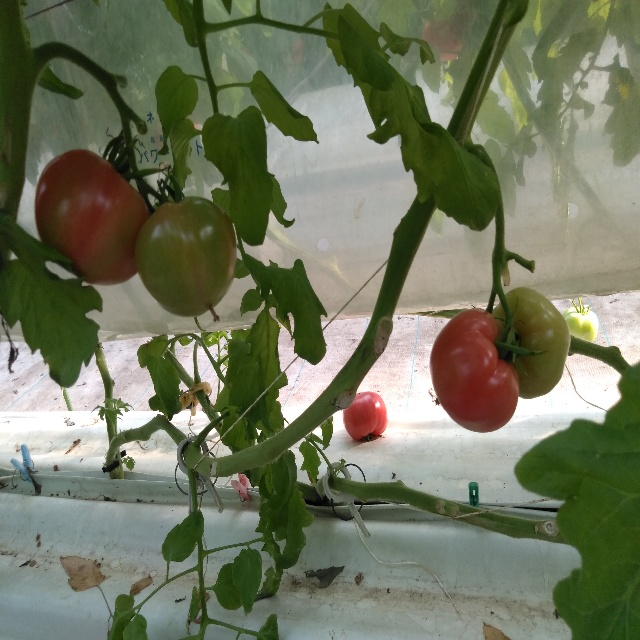b_fully_ripened: (429, 307, 519, 433), (343, 392, 389, 441)
b_green: (490, 288, 571, 400), (562, 306, 599, 343)
b_half_ripened: (34, 150, 151, 287), (133, 195, 238, 319)
